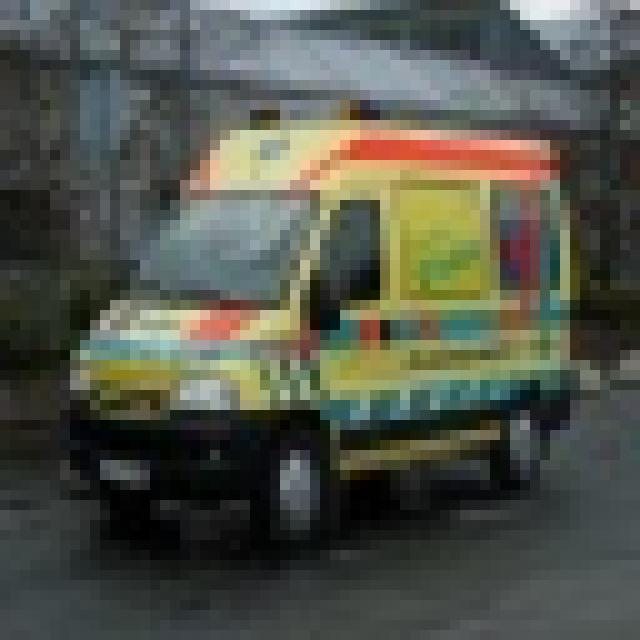Ambulance: (50, 100, 570, 540)
